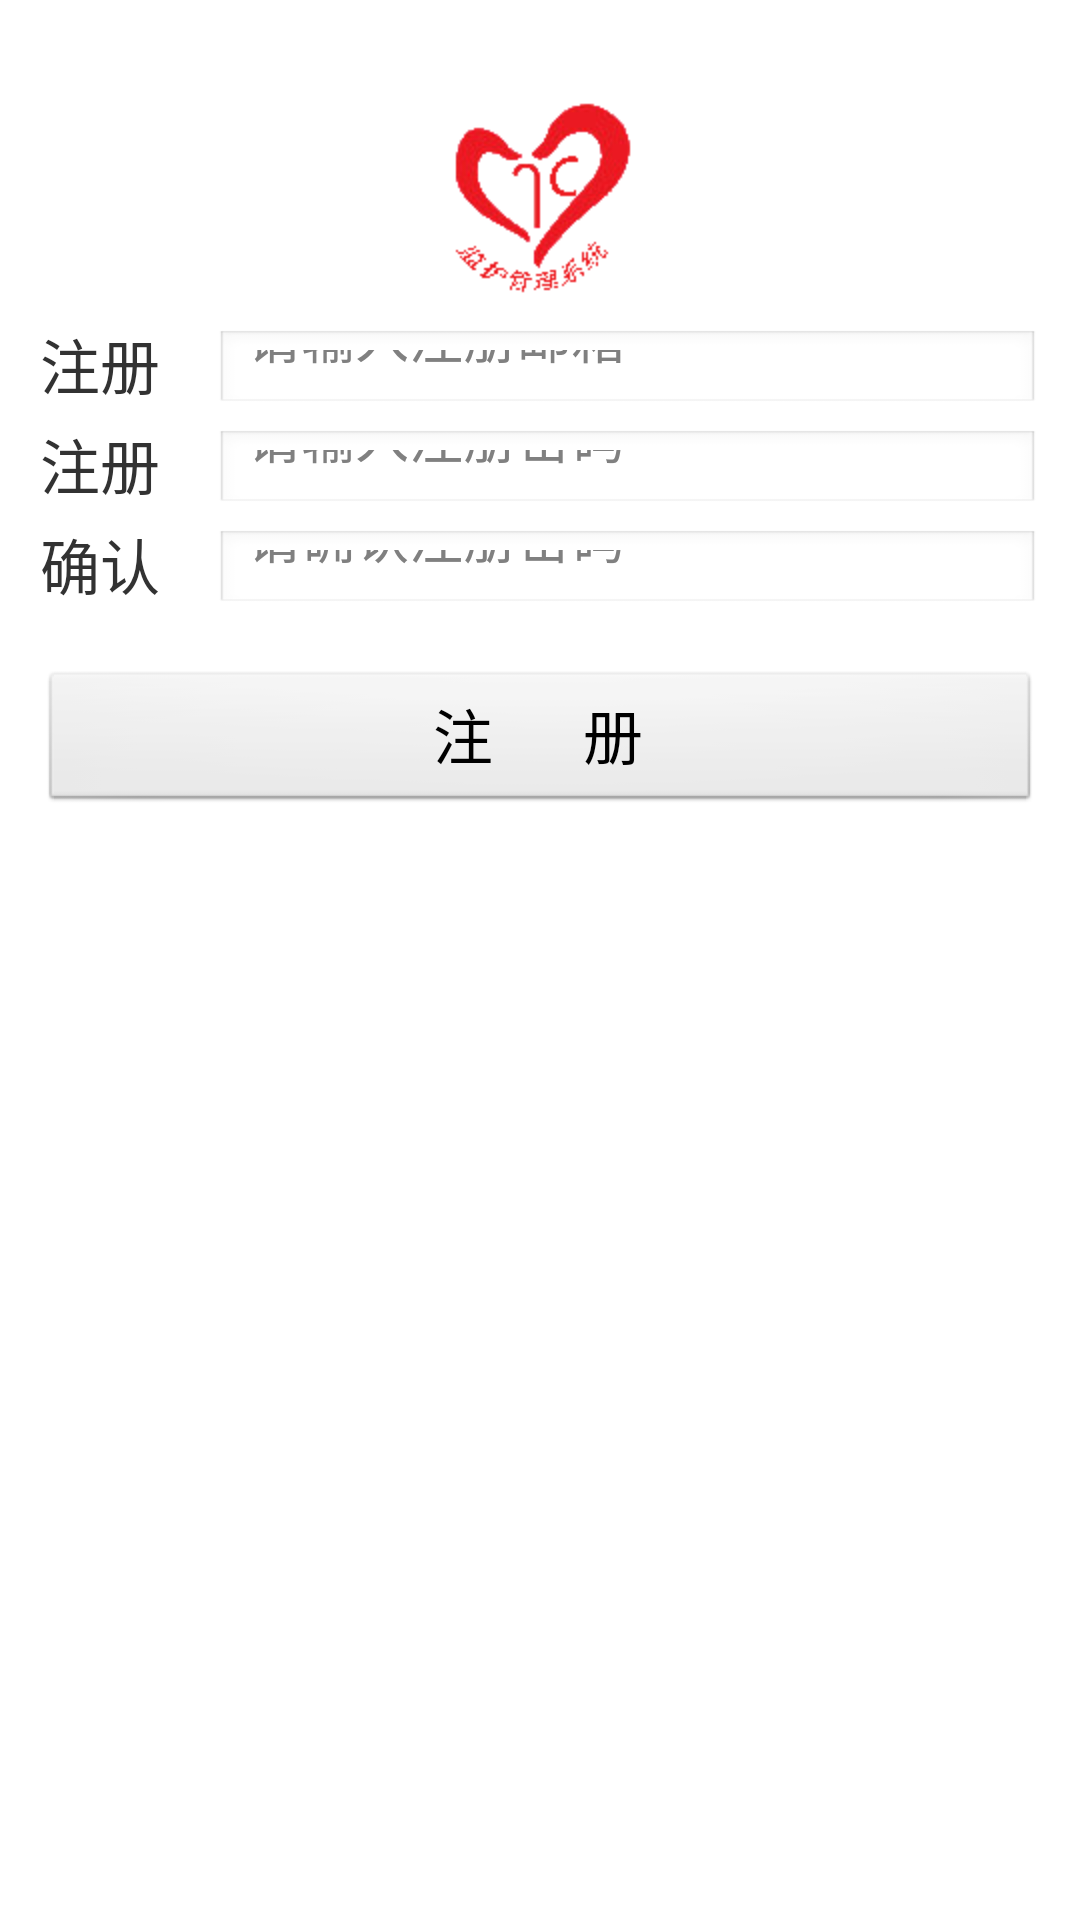

Where to tap for icons on this 1080×1920 app screen, as (x,y):
care: (543,198)
